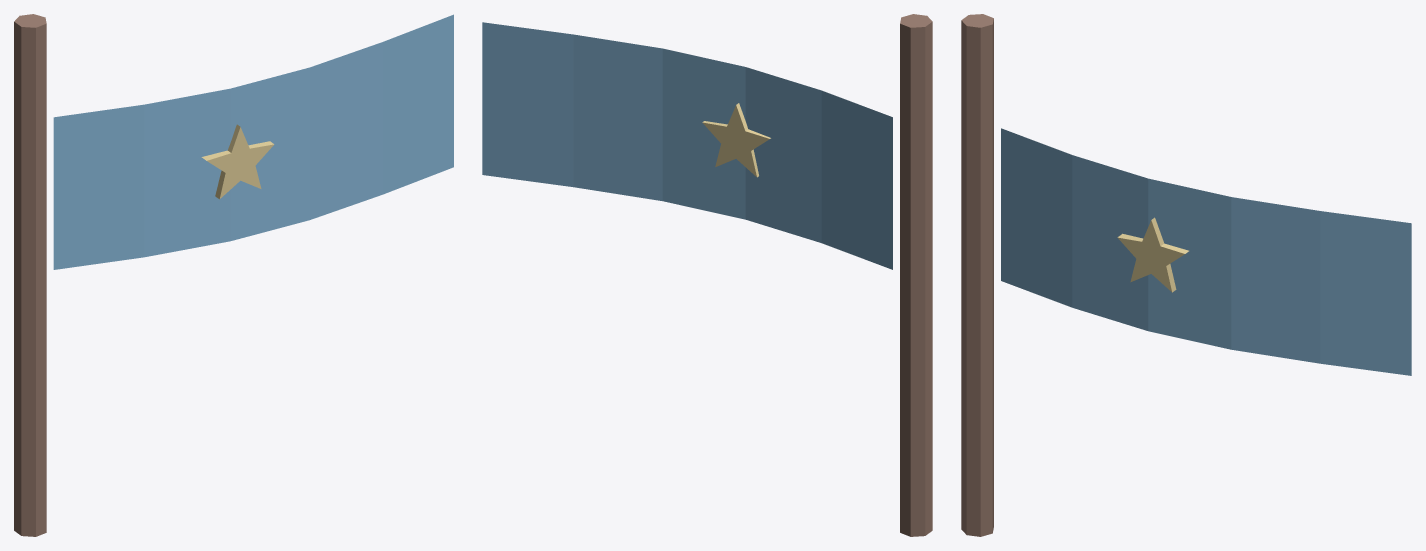
Rendered from bandera_azul.glb.
3 views of the same model, side by side, from view 1: azimuth 30°, elevation 25°; view 2: azimuth 150°, elevation 25°; view 3: azimuth 330°, elevation 25° (orthographic).
Visible parts, largest first — view 1: bandera_azul; view 2: bandera_azul; view 3: bandera_azul.
Boxes of the visible parts, x1=… form: bandera_azul: x1=14, y1=14, x2=453, y2=536; bandera_azul: x1=482, y1=14, x2=932, y2=536; bandera_azul: x1=961, y1=14, x2=1411, y2=536.
Size of the model in its own units: 1.36 by 1.5 by 0.1414.
